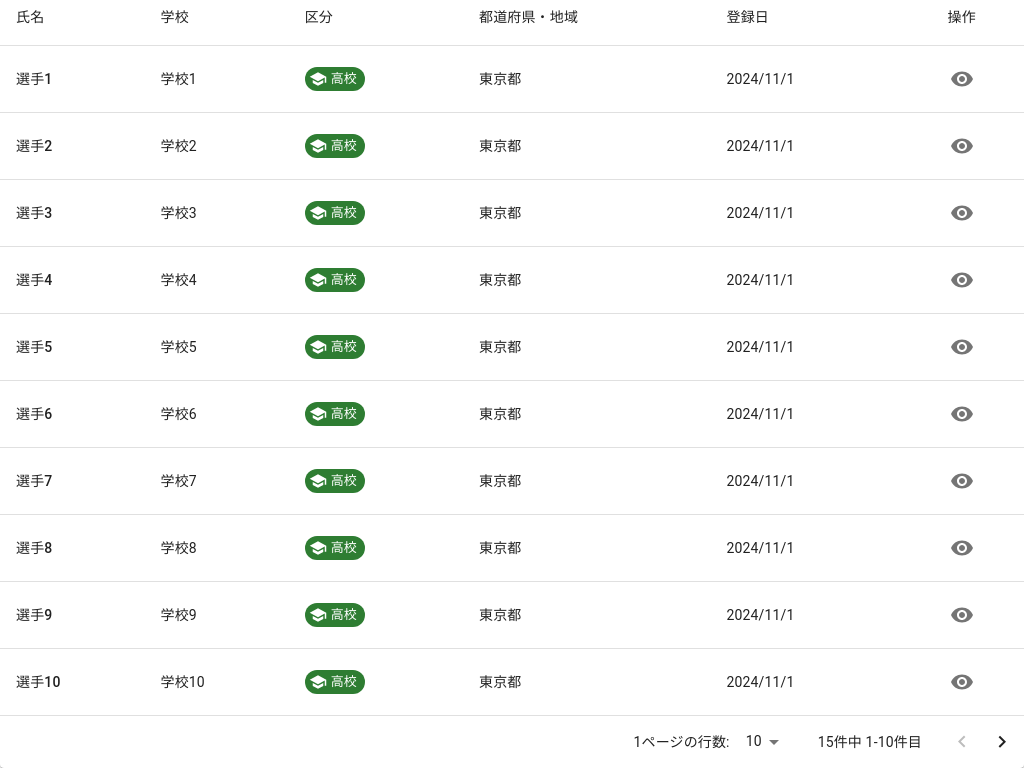
PlayerTable › ページネーション › ページ送りが機能する
(page scrolled)
Check: the text "選手1" is shown, box [16,71,52,87]
Check: the text "選手10" is shown, box [16,674,60,690]
次のページボタンをクリック
Click the button named "Go to next page". click: (1002,742)
box: [982,722,1022,762]
(page scrolled)
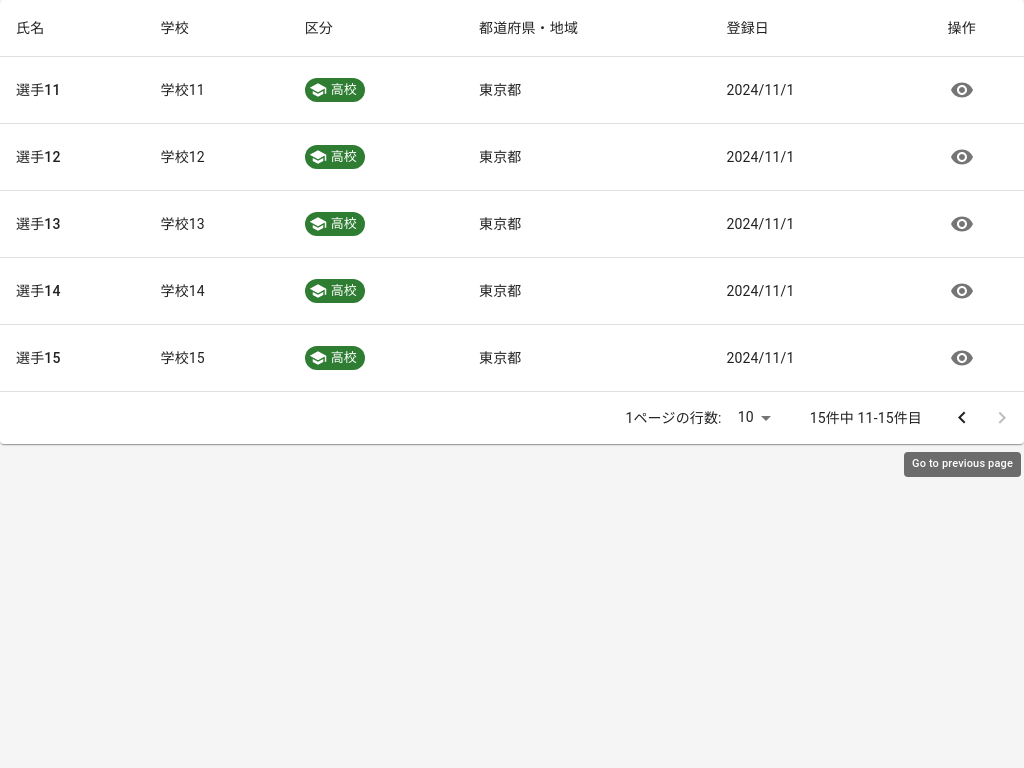
Check: the text "選手11" is shown, box [16,82,60,98]
Check: the text "選手15" is shown, box [16,350,60,366]
